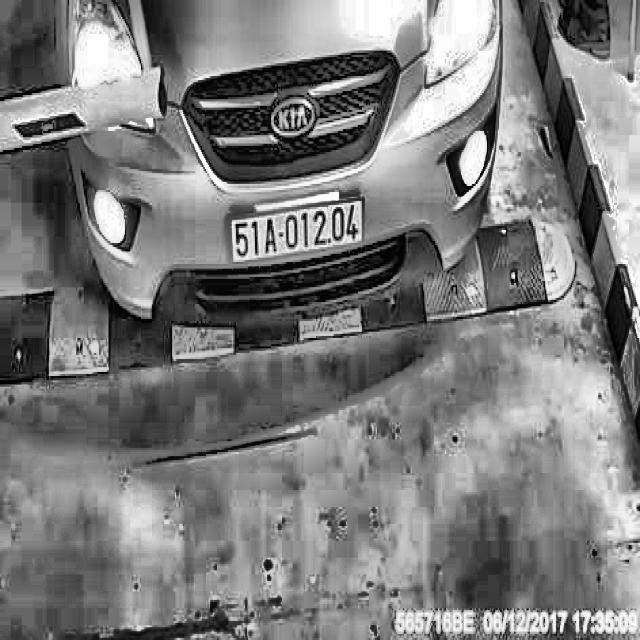plate: (228, 189, 372, 265)
